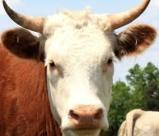muzzles: (60, 104, 111, 136)
